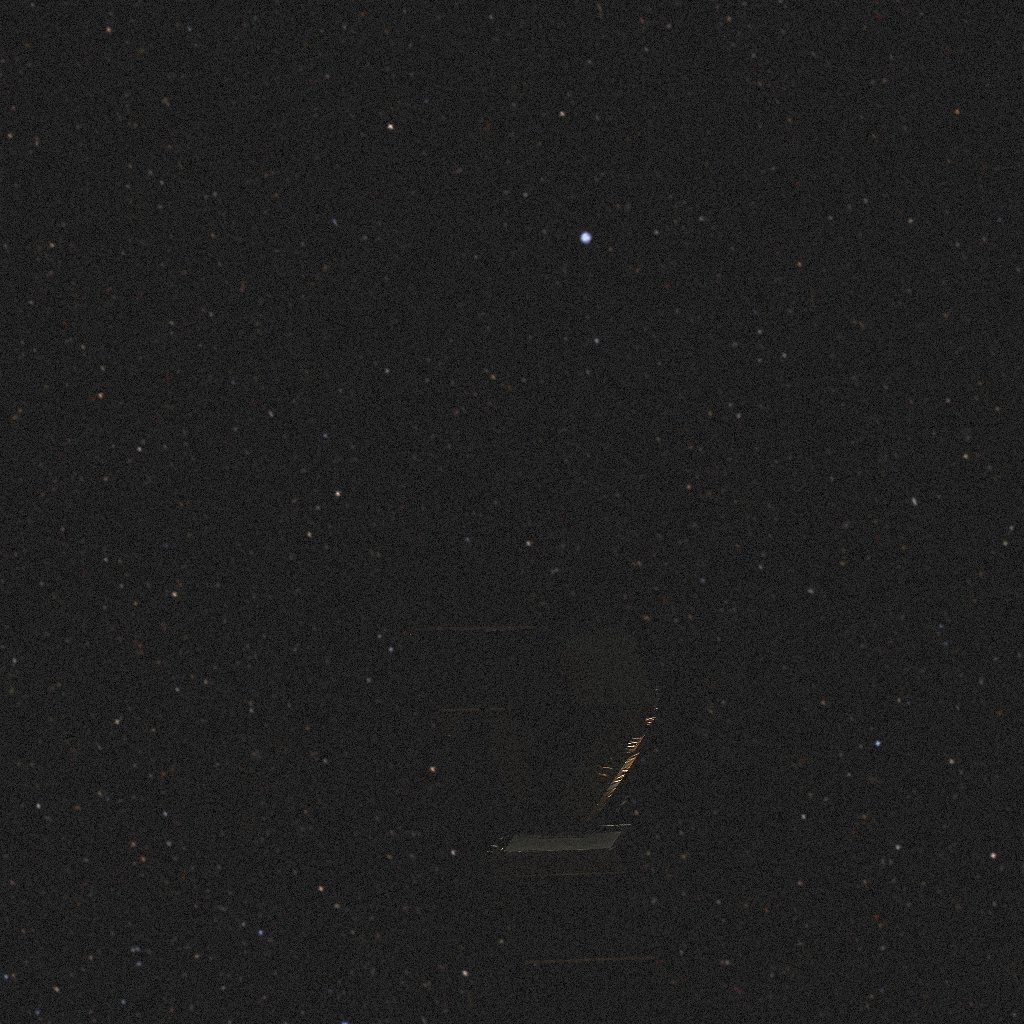soho: (385, 552, 678, 1024)
